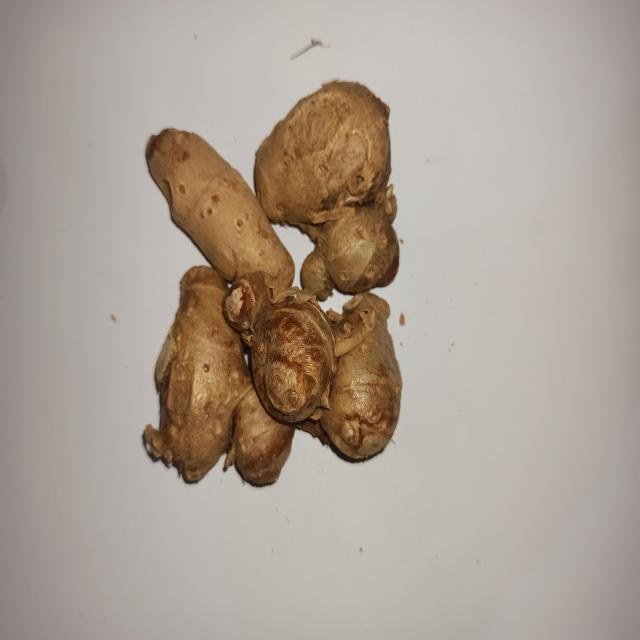ginger: (142, 88, 410, 484)
